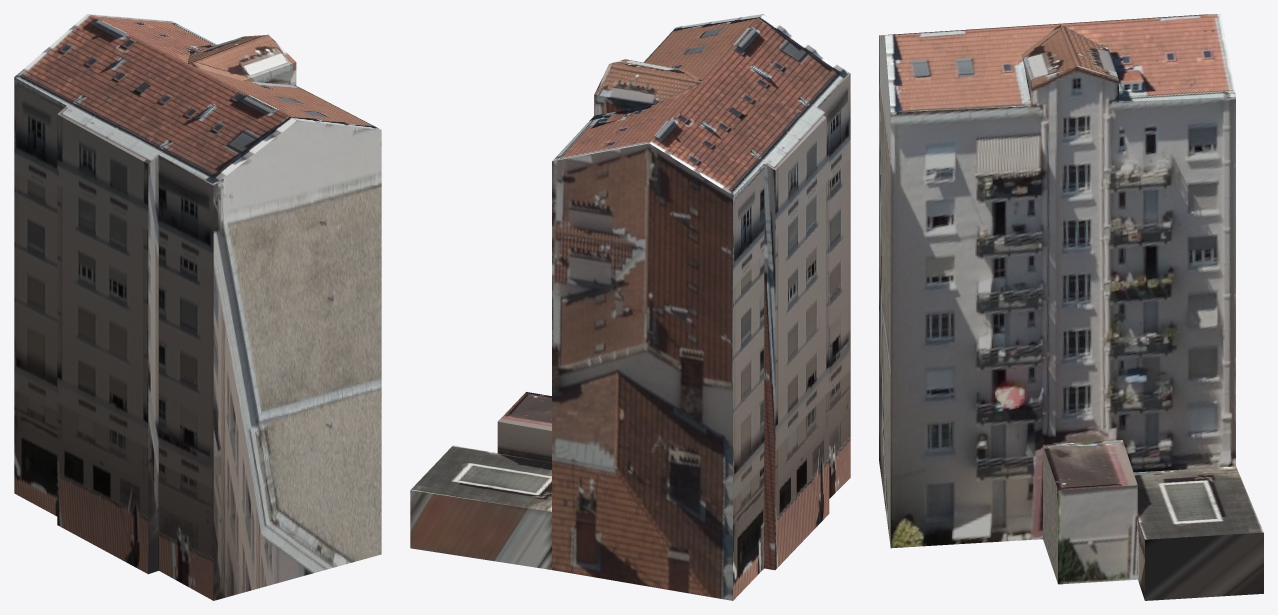
The picture shows the model from 3 angles, left to right: view 1: azimuth 30°, elevation 25°; view 2: azimuth 150°, elevation 25°; view 3: azimuth 270°, elevation 25°; orthographic projection. The views are drawn at different scales.
Parts seen in each view (by area): view 1: Z_UP; view 2: Z_UP; view 3: Z_UP.
Boxes of the visible parts, x1,y1,x2,y2 form: Z_UP: (14, 14, 381, 600); Z_UP: (410, 14, 850, 600); Z_UP: (879, 14, 1263, 600).
Bounding box in the file's own units: 20.35 × 27.99 × 20.74.
Materials: 2 (1 with a texture image).
